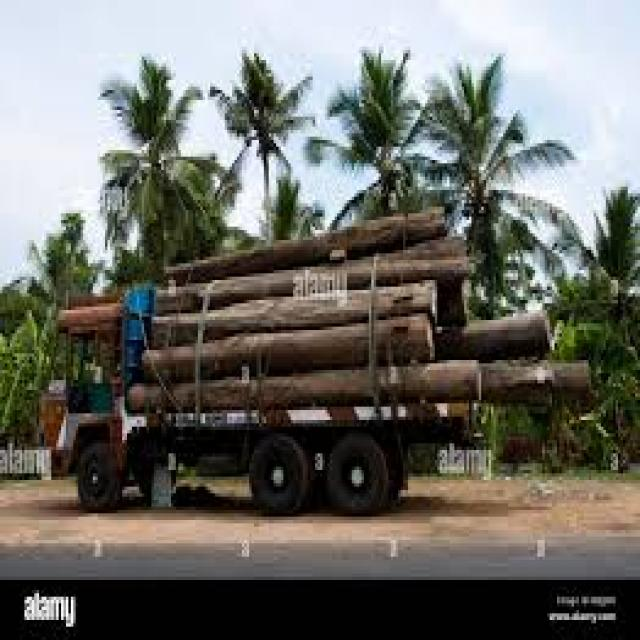Truck: (34, 242, 534, 513)
